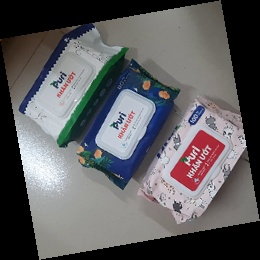Puri Trang: (18, 22, 129, 150)
Puri Xanh: (74, 56, 183, 193)
Puri hong: (137, 90, 256, 226)
